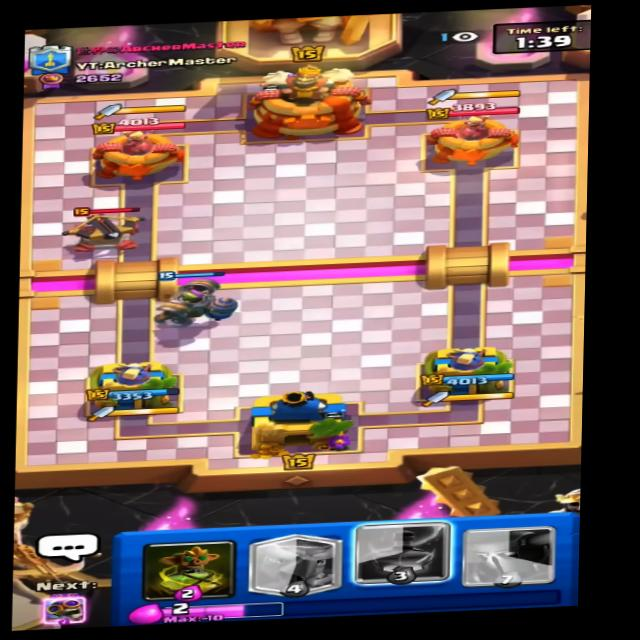x-bow: (63, 204, 158, 260)
